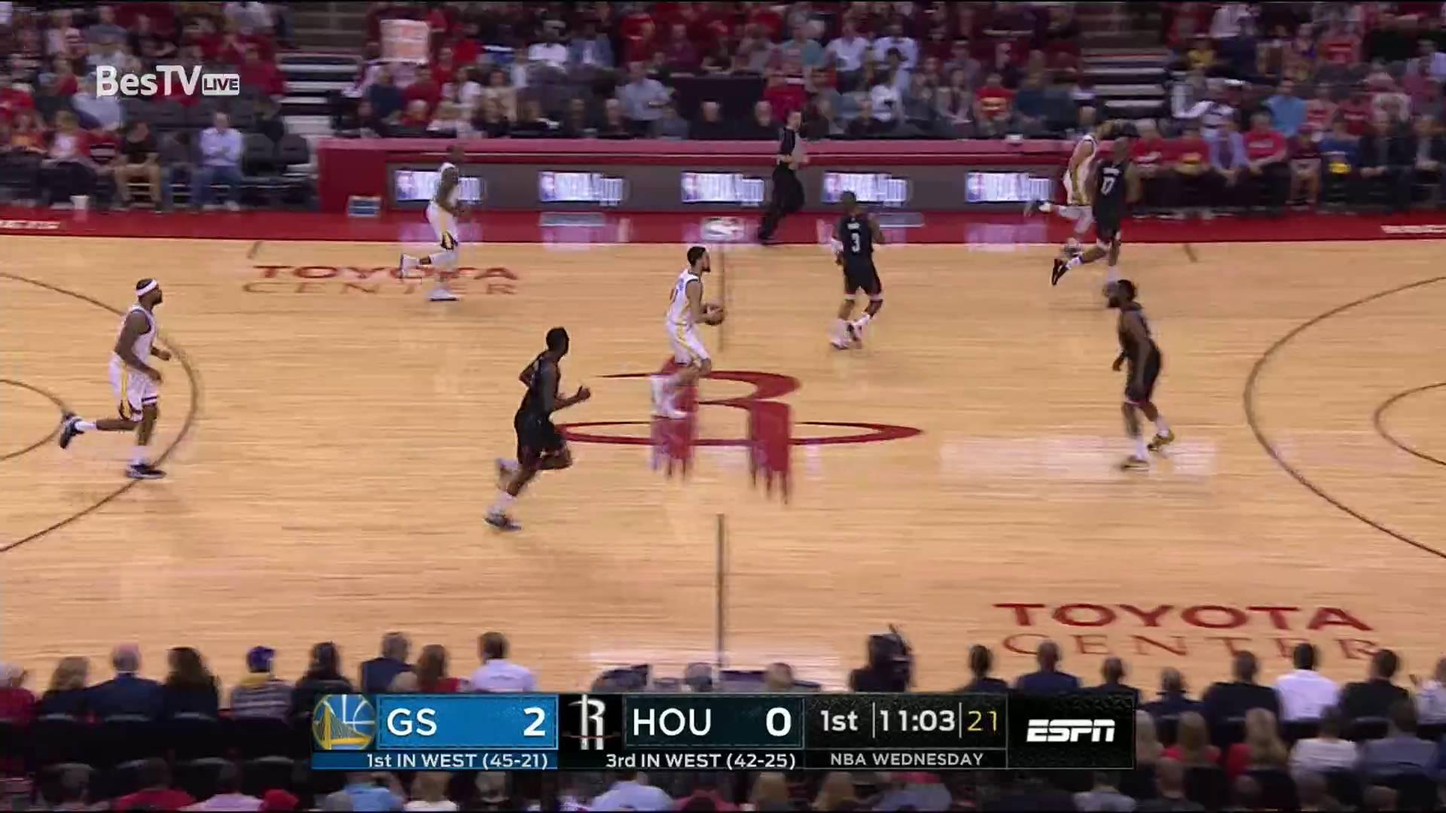basketball: (704, 300, 728, 326)
